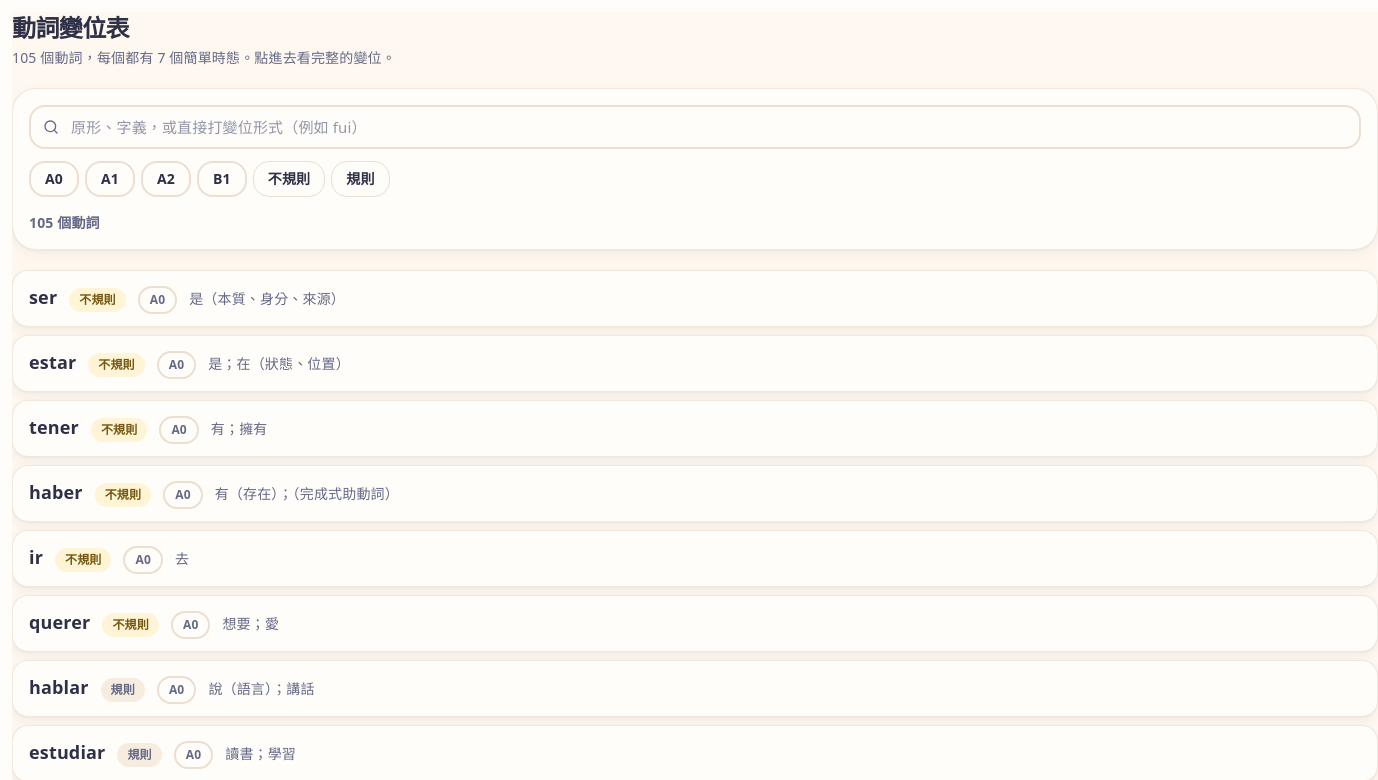
Scenario: 動詞列表 › 等級篩得動
This screenshot has width=1378, height=780.
Click the button "A0". click: [54, 179]
box: x1=29 y1=161 x2=79 y2=197
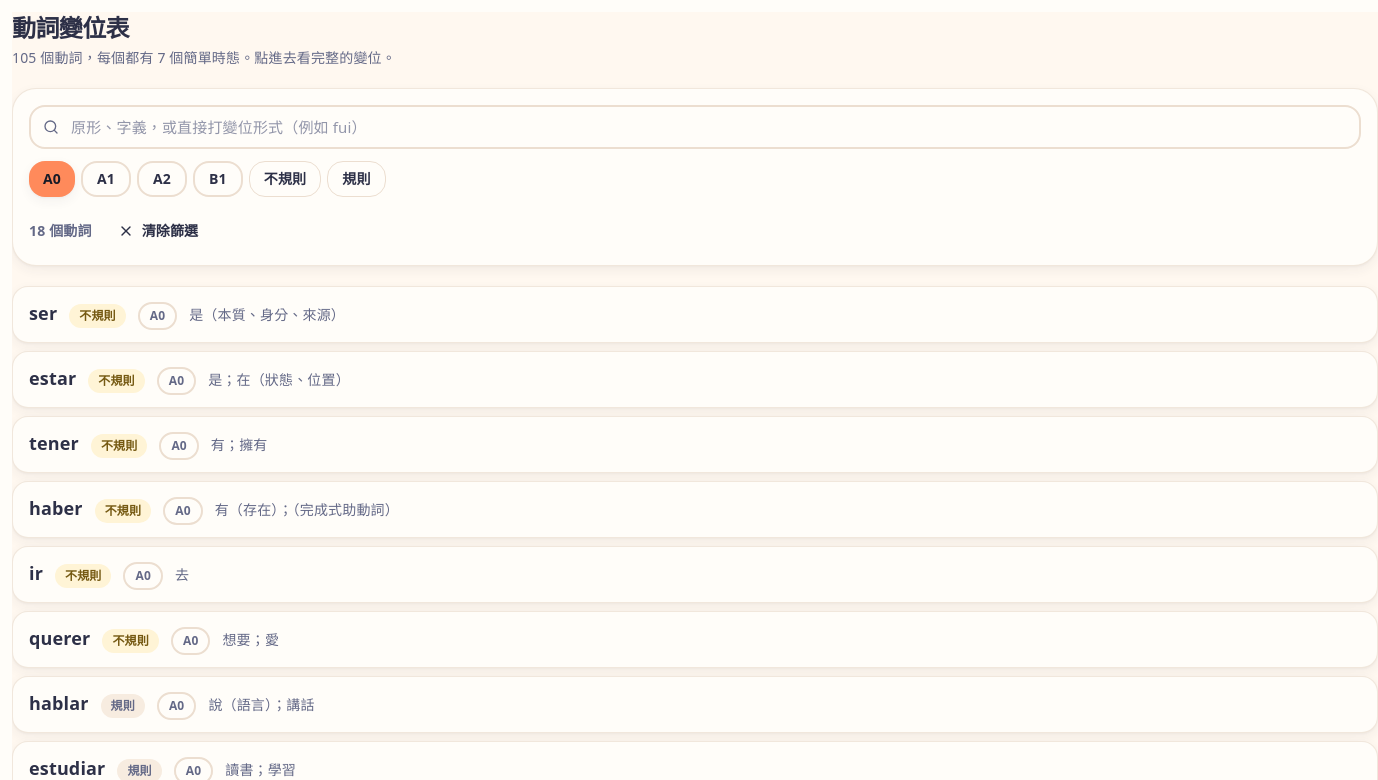
Check: the number of list items is 18
